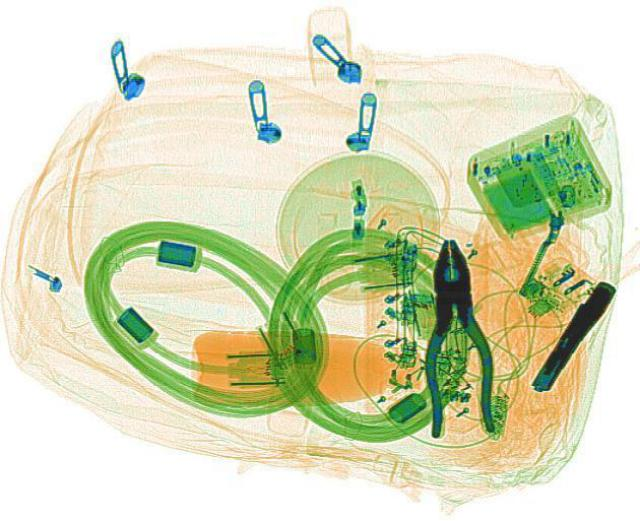Gun: (524, 274, 620, 392)
Pliers: (416, 236, 496, 437)
